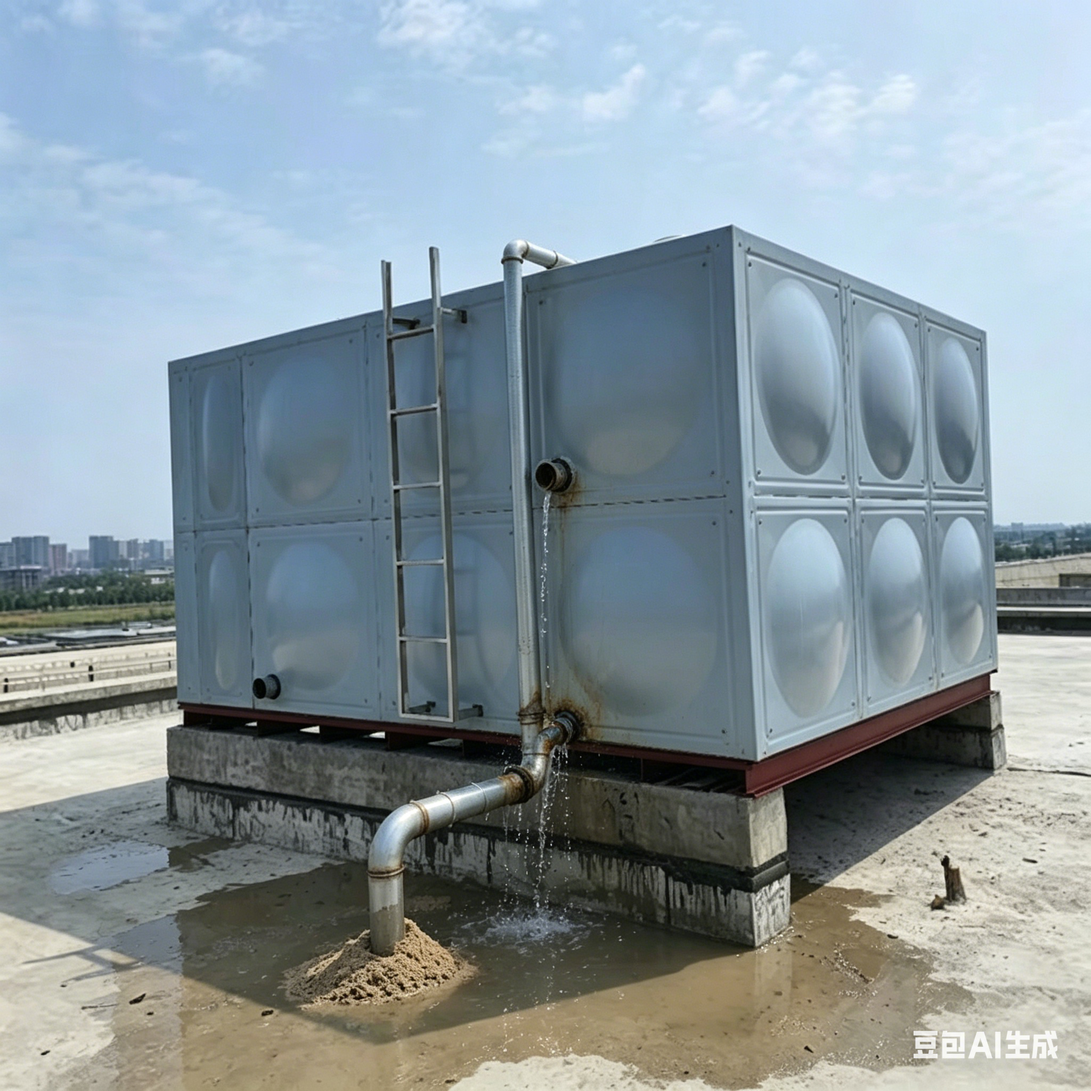Leakage: (586, 858, 969, 1085), (116, 909, 509, 1089), (521, 455, 576, 1053), (247, 850, 487, 908), (56, 824, 168, 888)
